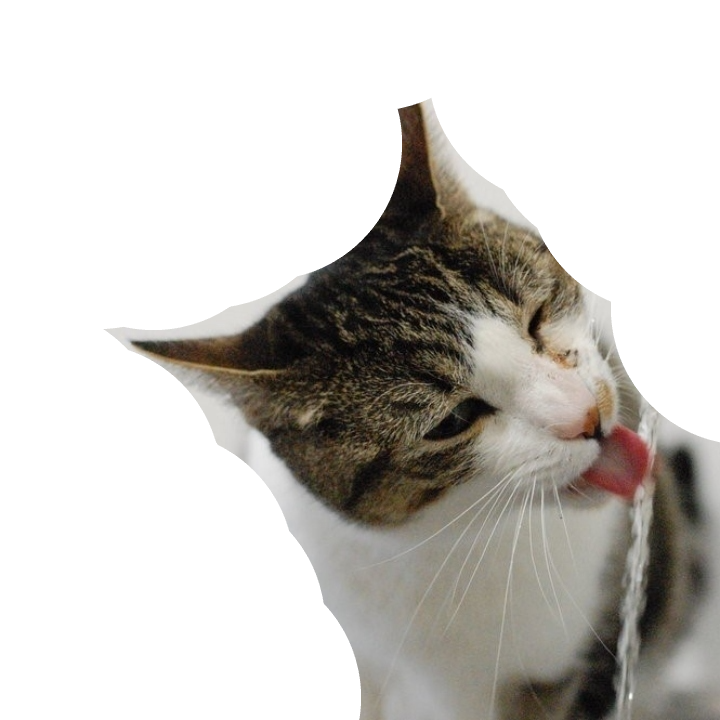Cat: (106, 96, 719, 719)
